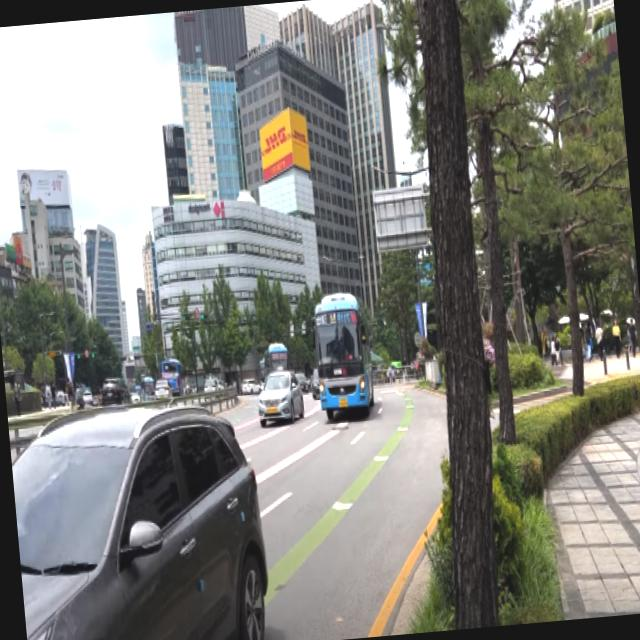bus-number: (336, 310, 351, 326)
